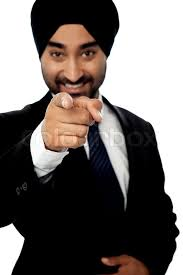hand: (37, 91, 105, 152)
